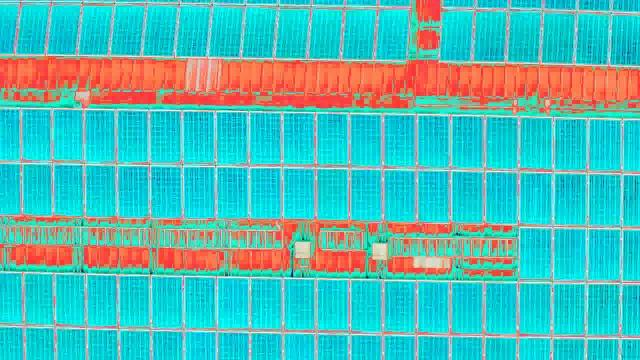dirty: (56, 270, 85, 326), (24, 273, 53, 329), (18, 2, 47, 57), (50, 1, 79, 56), (79, 1, 108, 56), (112, 3, 141, 58), (144, 1, 173, 56), (178, 2, 207, 57), (211, 3, 240, 58), (240, 4, 269, 59), (273, 5, 302, 60), (311, 4, 340, 59), (345, 8, 374, 63), (379, 7, 408, 62), (442, 8, 471, 63), (477, 7, 506, 62), (511, 9, 540, 64), (544, 10, 573, 65), (578, 9, 607, 64), (590, 119, 619, 174), (556, 116, 585, 171), (522, 115, 551, 170), (485, 113, 514, 168), (452, 115, 481, 170), (421, 114, 450, 169), (384, 112, 413, 167), (352, 112, 381, 167), (319, 110, 348, 165), (284, 112, 313, 167), (252, 111, 281, 166), (217, 110, 246, 165), (186, 109, 215, 164), (153, 109, 182, 164), (118, 112, 147, 167), (86, 108, 115, 163), (49, 108, 78, 163), (22, 106, 51, 161), (21, 163, 50, 218), (52, 161, 81, 216), (85, 164, 114, 219), (120, 165, 149, 220), (149, 164, 178, 219), (184, 166, 213, 221), (215, 166, 244, 221), (251, 167, 280, 222), (282, 166, 311, 221), (313, 169, 342, 224), (349, 167, 378, 222), (384, 170, 413, 225), (417, 167, 446, 222), (452, 169, 481, 224), (486, 168, 515, 223), (523, 173, 552, 228), (556, 172, 585, 227), (592, 173, 621, 228), (589, 227, 618, 282), (555, 226, 584, 281), (519, 224, 548, 279), (522, 280, 551, 335), (558, 279, 587, 334), (592, 284, 621, 339), (486, 282, 515, 337), (453, 281, 482, 336), (419, 280, 448, 335), (385, 279, 414, 334), (350, 276, 379, 331), (318, 279, 347, 334), (284, 277, 313, 332), (250, 276, 279, 331), (217, 276, 246, 331), (184, 277, 213, 332), (152, 274, 181, 329), (119, 273, 148, 328), (86, 273, 115, 328), (58, 272, 87, 327)
